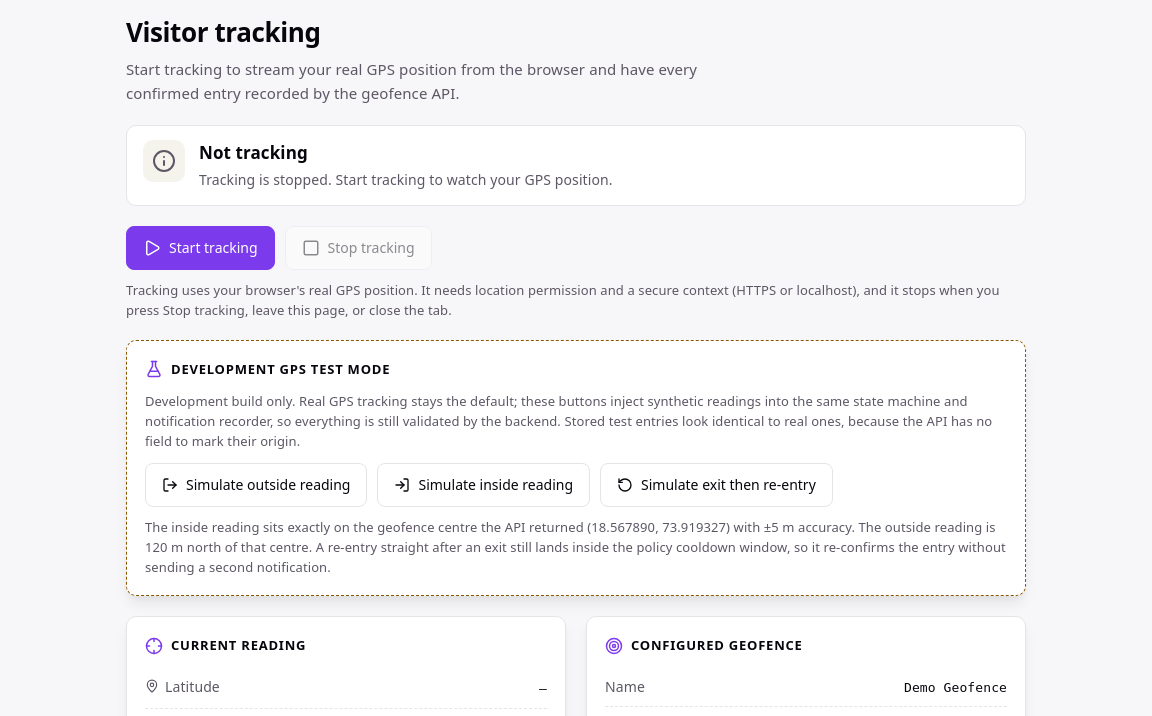
development GPS test mode › applies an outside reading without recording a notification
The width and height of the screenshot is (1152, 716).
Click the button "Simulate outside reading".
click(256, 485)  # box [145,463,368,507]
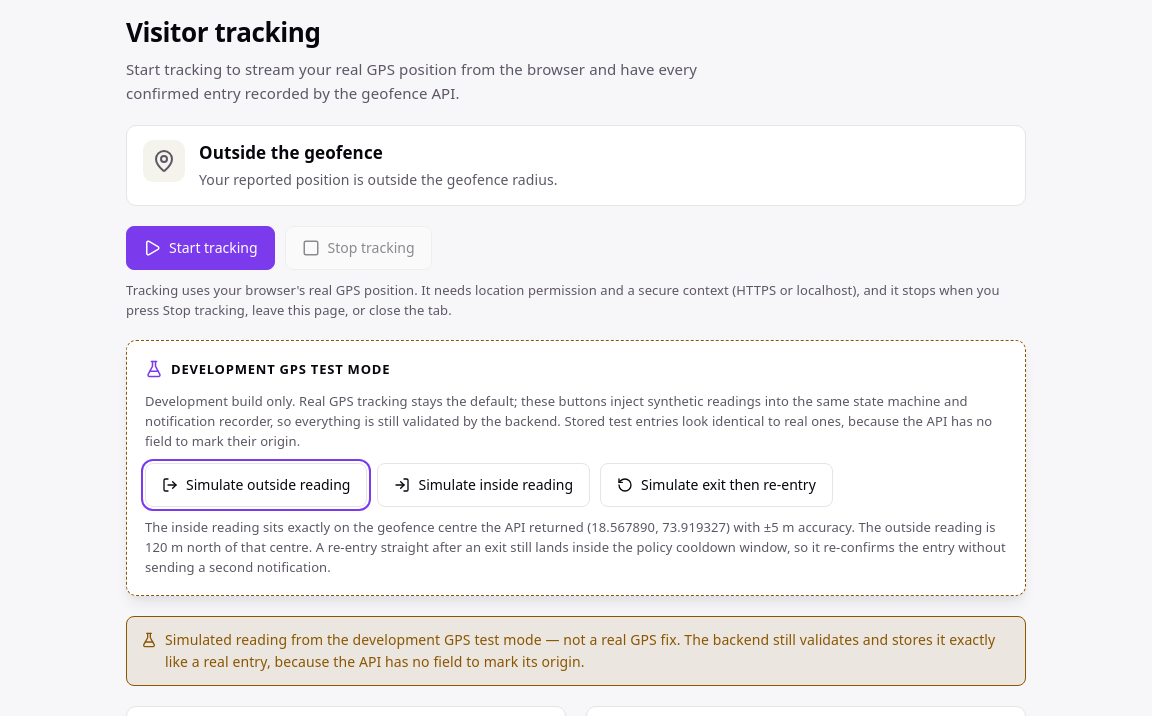
Result: the text "Outside the geofence" is shown at [199,141,383,164]
Result: the text "Your reported position is outside the geofence radius." is shown at [199,169,558,191]
Result: the text "Simulated reading from the development GPS test mode" is shown at [165,630,995,671]
